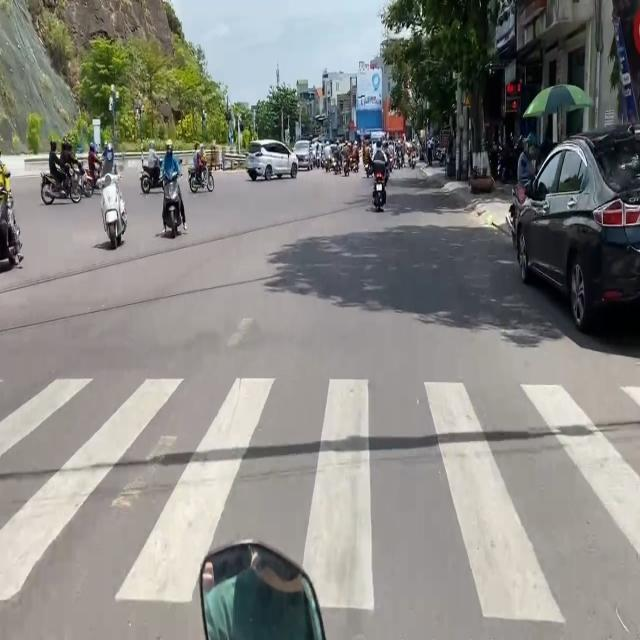walk-crossing: (0, 370, 639, 640)
